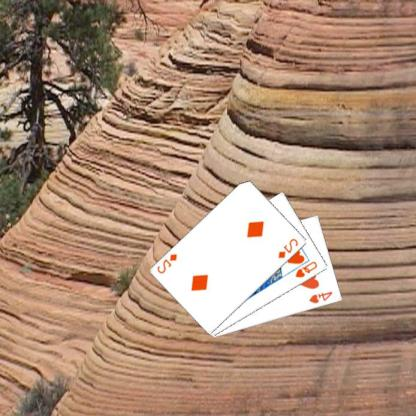2D: (278, 236, 302, 260), (156, 251, 180, 275)
4H: (308, 289, 336, 304)
QH: (294, 259, 321, 279)
